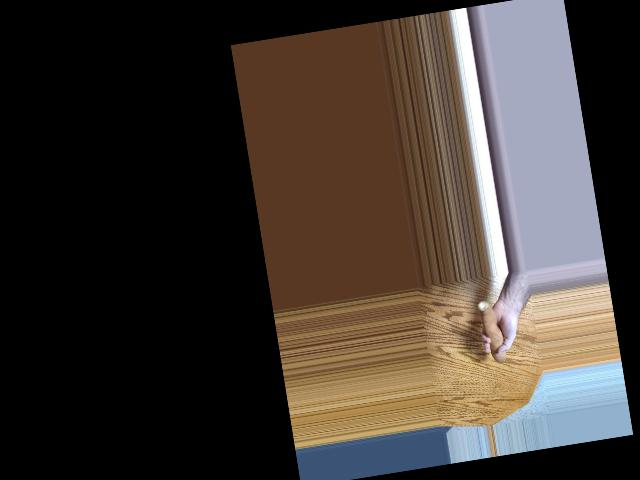sweet_potato: (478, 296, 511, 369)
